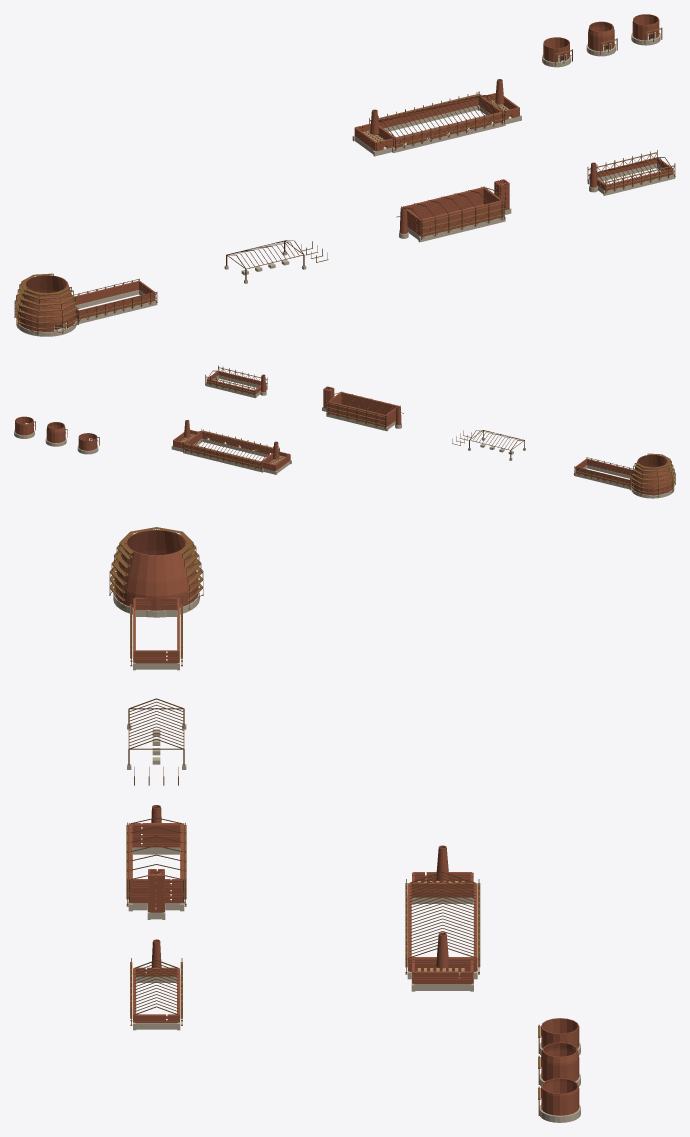
3 views of the same model, one above another, from view 1: azimuth 30°, elevation 25°; view 2: azimuth 150°, elevation 25°; view 3: azimuth 270°, elevation 25° (orthographic). The views are drawn at different scales.
Visible parts, largest first — view 1: chem_K2; view 2: chem_K2; view 3: chem_K2.
Boxes of the visible parts, bbox=[...] form: chem_K2: bbox=[14, 14, 675, 336]; chem_K2: bbox=[14, 365, 675, 498]; chem_K2: bbox=[109, 527, 580, 1122].
Bounding box in the file's own units: 351 × 17 × 129.
